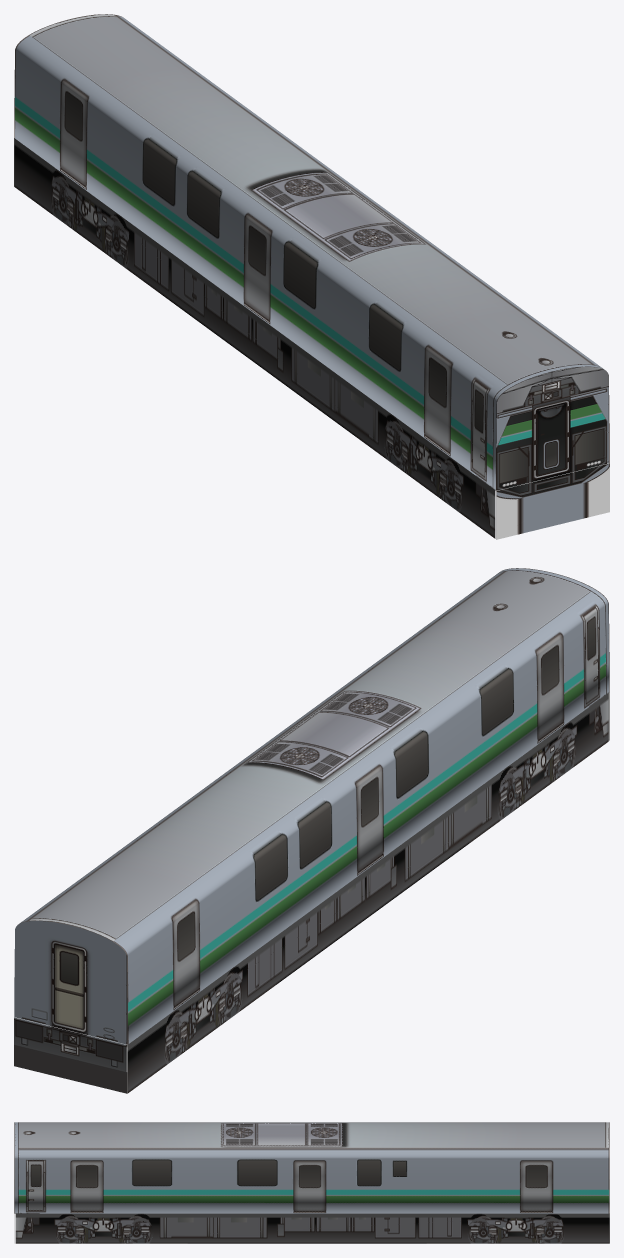
The model's file is car1.glb.
3 views of the same model, one above another, from view 1: azimuth 30°, elevation 25°; view 2: azimuth 150°, elevation 25°; view 3: azimuth 270°, elevation 25° (orthographic). The views are drawn at different scales.
Visible parts, largest first — view 1: jr-east-hb-e220-car1; view 2: jr-east-hb-e220-car1; view 3: jr-east-hb-e220-car1.
Boxes of the visible parts, x1,y1,x2,y2 form: jr-east-hb-e220-car1: [14, 14, 609, 539]; jr-east-hb-e220-car1: [14, 568, 609, 1093]; jr-east-hb-e220-car1: [14, 1122, 609, 1243].
Size of the model in its own units: 2.8 by 3.63 by 20.63.
Materials: 9 (8 with a texture image).
